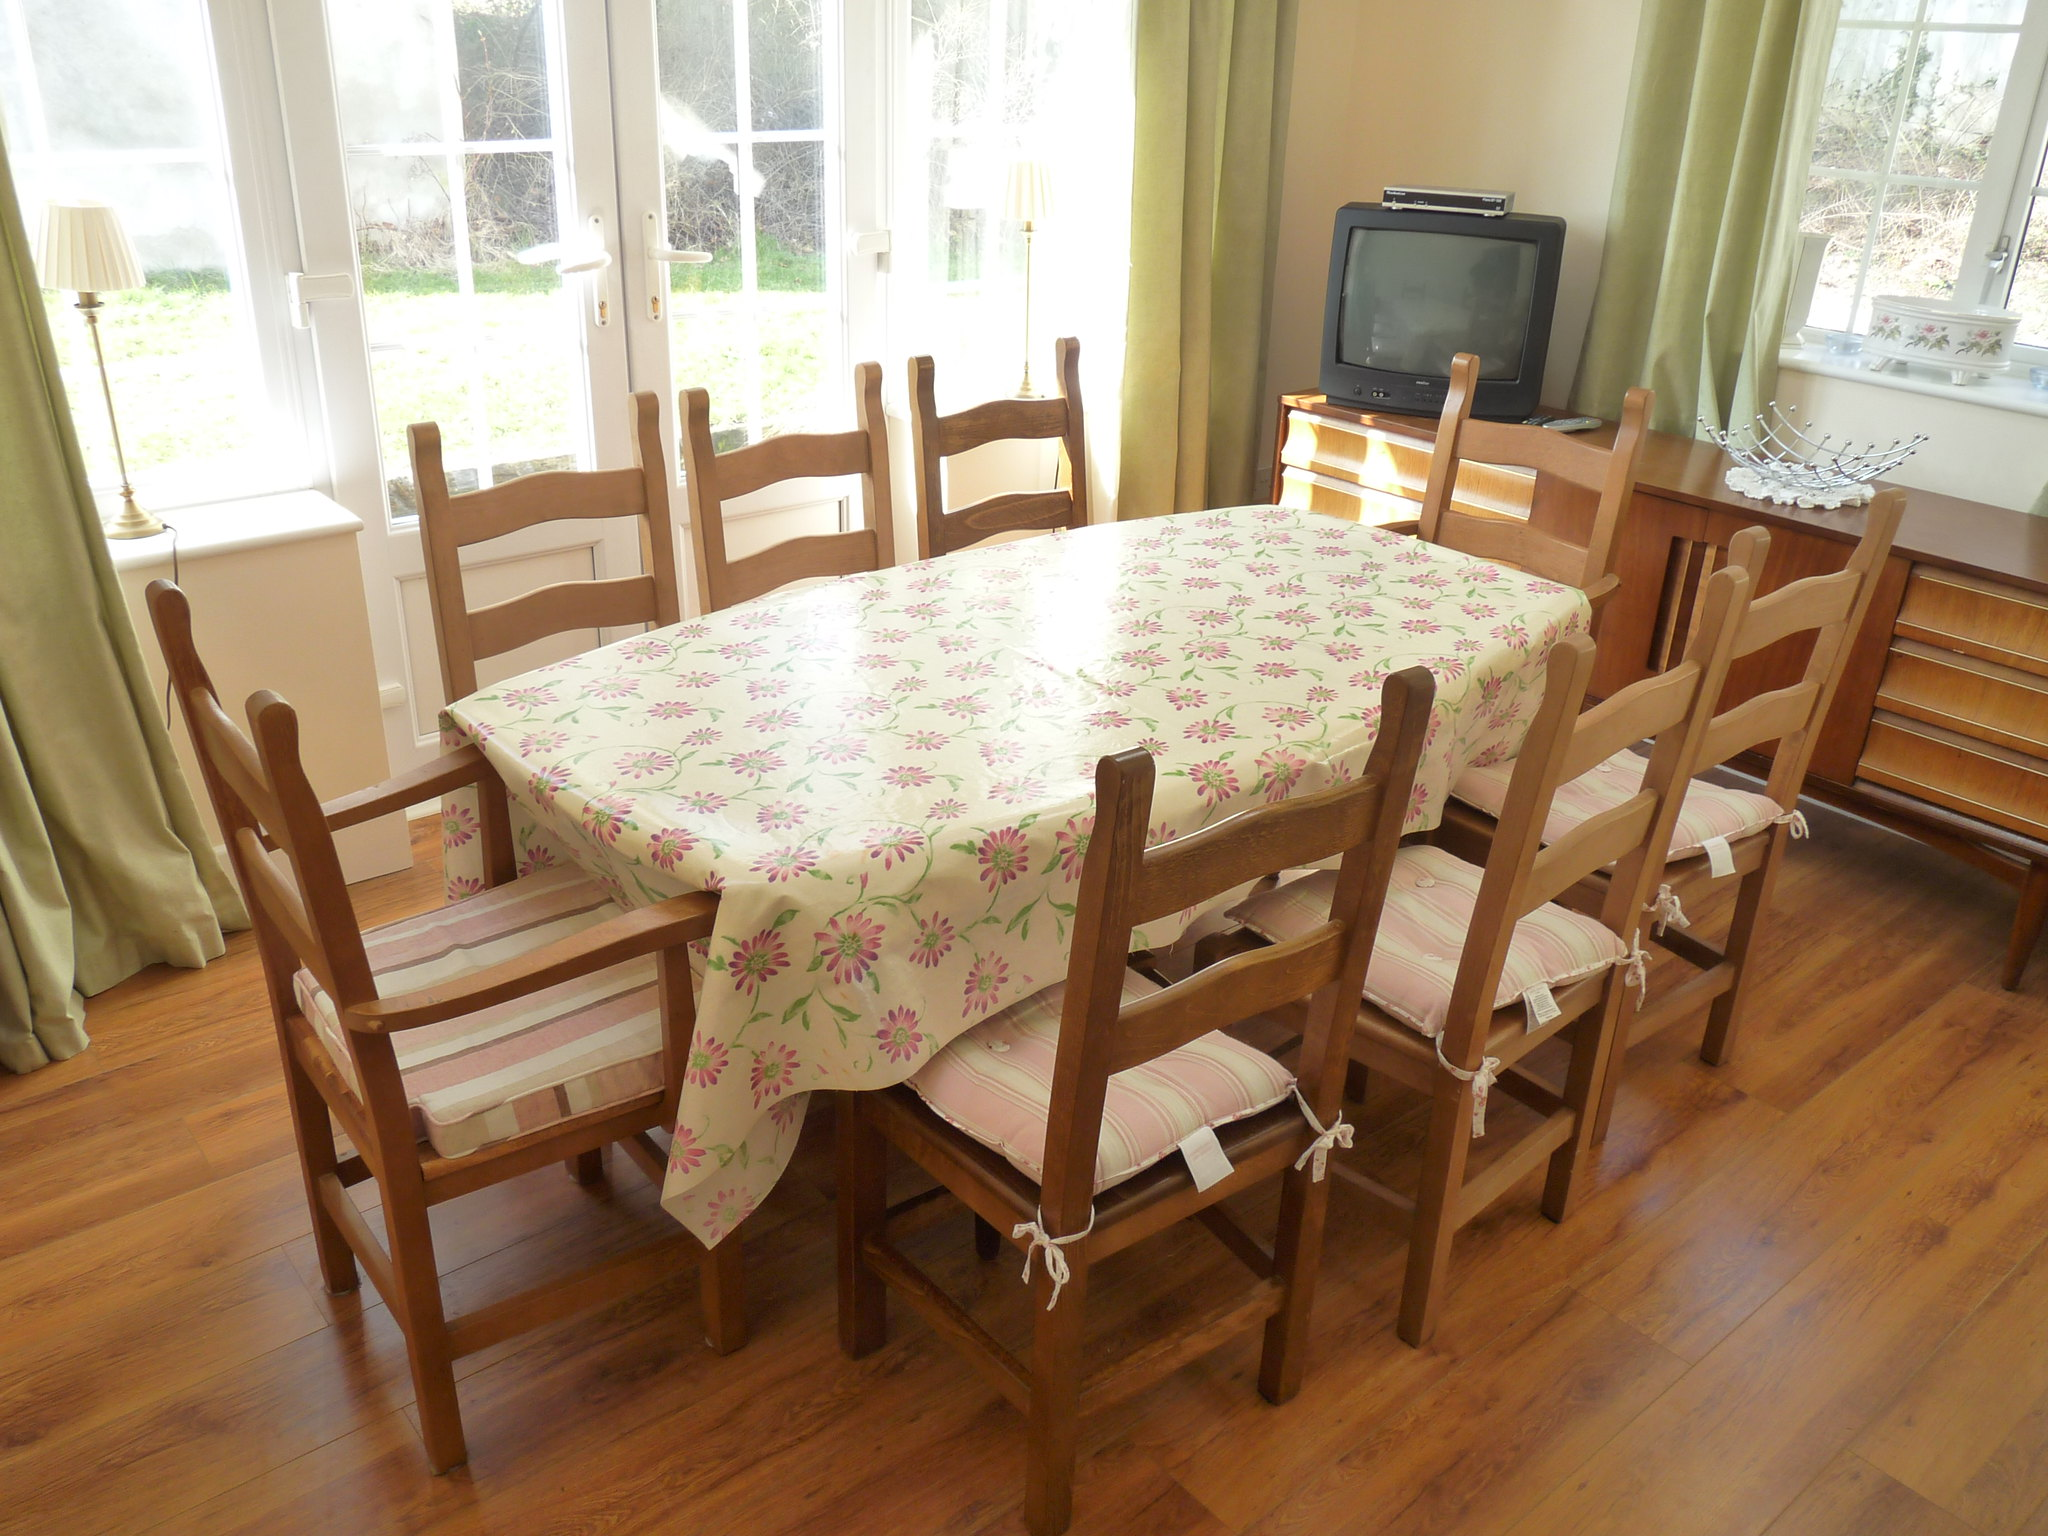chair: (126, 558, 835, 1434), (1014, 728, 1385, 1467)
dining table: (464, 528, 1637, 1129)
